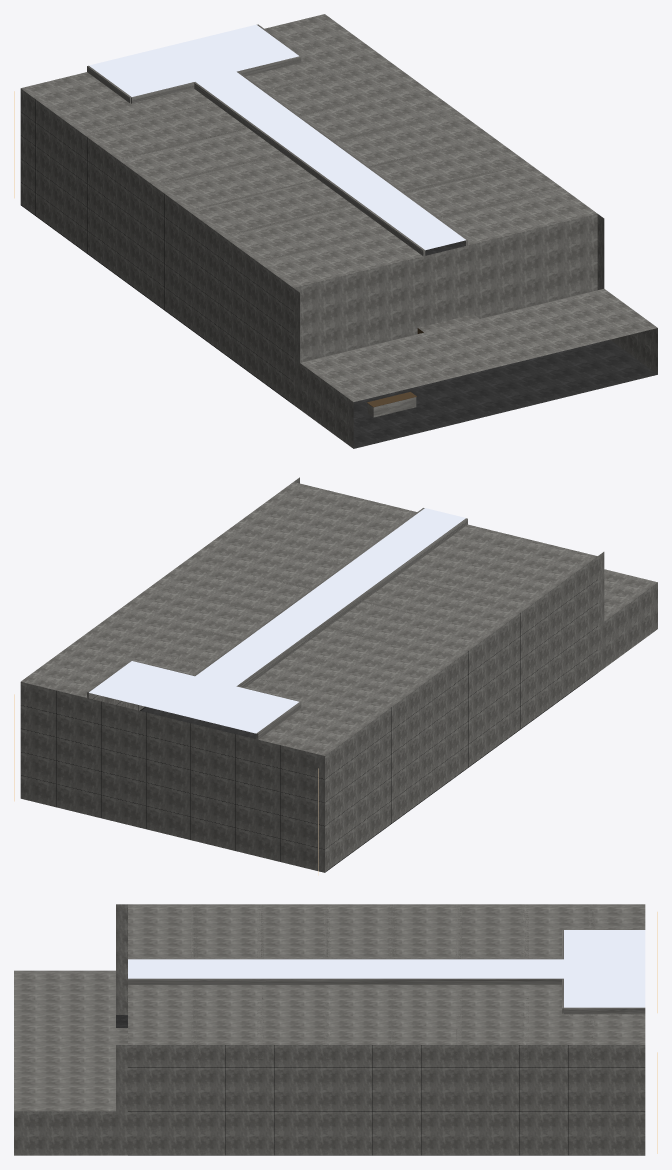
File: room_brutal.glb
3 views of the same model, one above another, from view 1: azimuth 30°, elevation 25°; view 2: azimuth 150°, elevation 25°; view 3: azimuth 270°, elevation 25° (orthographic). The views are drawn at different scales.
Parts seen in each view (by area): view 1: MTG_Ceiling, MTG_Walls, MTG_Floor, MTG_Sky_Slot, MTG_Sky_End, MTG_Grooves; view 2: MTG_Walls, MTG_Ceiling, MTG_Sky_Slot, MTG_Sky_End, MTG_Grooves, MTG_Floor; view 3: MTG_Ceiling, MTG_Walls, MTG_Sky_Slot, MTG_Sky_End, MTG_Grooves, MTG_Gap1.
Part boxes in pixels (box(x1,y1,x2,y2)): MTG_Ceiling: box(21, 14, 657, 401); MTG_Walls: box(20, 88, 657, 448); MTG_Floor: box(353, 241, 657, 448); MTG_Sky_Slot: box(195, 71, 465, 250); MTG_Sky_End: box(89, 24, 298, 96); MTG_Grooves: box(21, 99, 292, 378); MTG_Walls: box(20, 477, 657, 872); MTG_Ceiling: box(21, 482, 657, 755); MTG_Sky_Slot: box(195, 508, 465, 686); MTG_Sky_End: box(89, 661, 298, 733); MTG_Grooves: box(21, 580, 597, 861); MTG_Floor: box(141, 707, 256, 738); MTG_Ceiling: box(14, 904, 645, 1111); MTG_Walls: box(14, 904, 645, 1155); MTG_Sky_Slot: box(128, 959, 563, 978); MTG_Sky_End: box(564, 930, 645, 1007); MTG_Grooves: box(128, 1045, 644, 1155); MTG_Gap1: box(128, 1155, 644, 1155).
Bounding box in the file's own units: 32.7 × 12.63 × 63.23.
Materials: 7 (3 with a texture image).
